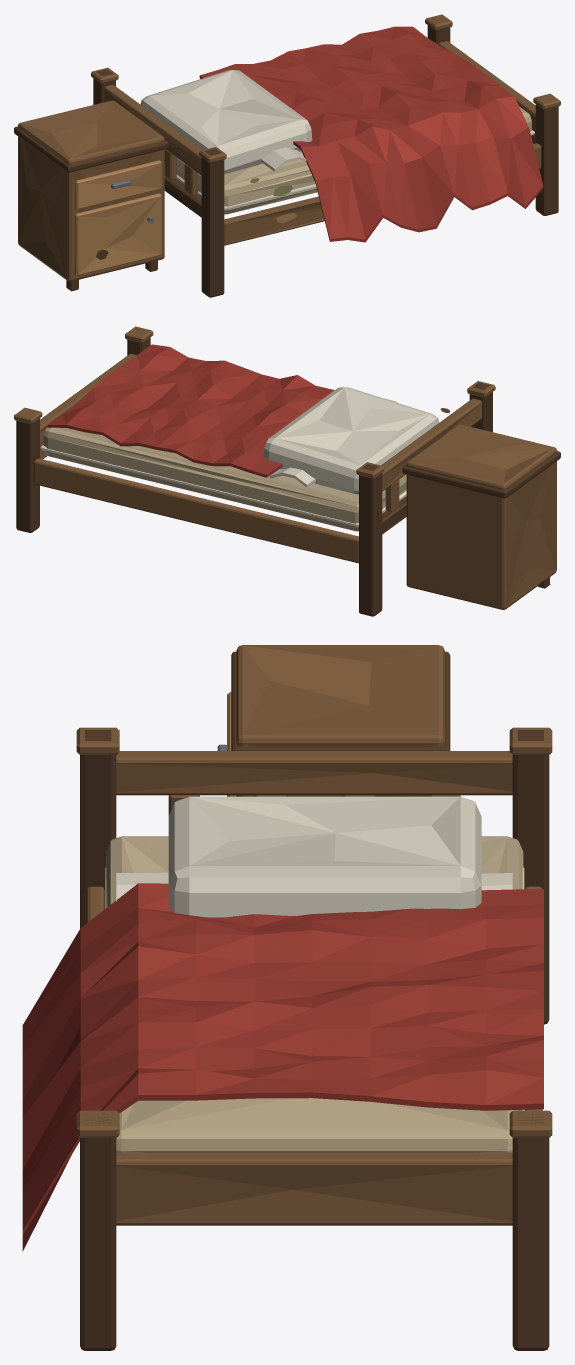
The model's file is bed_single_krovat_s_tumboy_idle.glb.
3 views of the same model, one above another, from view 1: azimuth 30°, elevation 25°; view 2: azimuth 150°, elevation 25°; view 3: azimuth 270°, elevation 25° (orthographic). The views are drawn at different scales.
Visible parts, largest first — view 1: bed_single_krovat_s_tumboy_idle; view 2: bed_single_krovat_s_tumboy_idle; view 3: bed_single_krovat_s_tumboy_idle.
Boxes of the visible parts, bbox=[...] form: bed_single_krovat_s_tumboy_idle: bbox=[14, 14, 560, 297]; bed_single_krovat_s_tumboy_idle: bbox=[14, 326, 560, 616]; bed_single_krovat_s_tumboy_idle: bbox=[22, 645, 552, 1350].
Size of the model in its own units: 2.02 by 0.6 by 1.02.
1 material, 1 textured.
